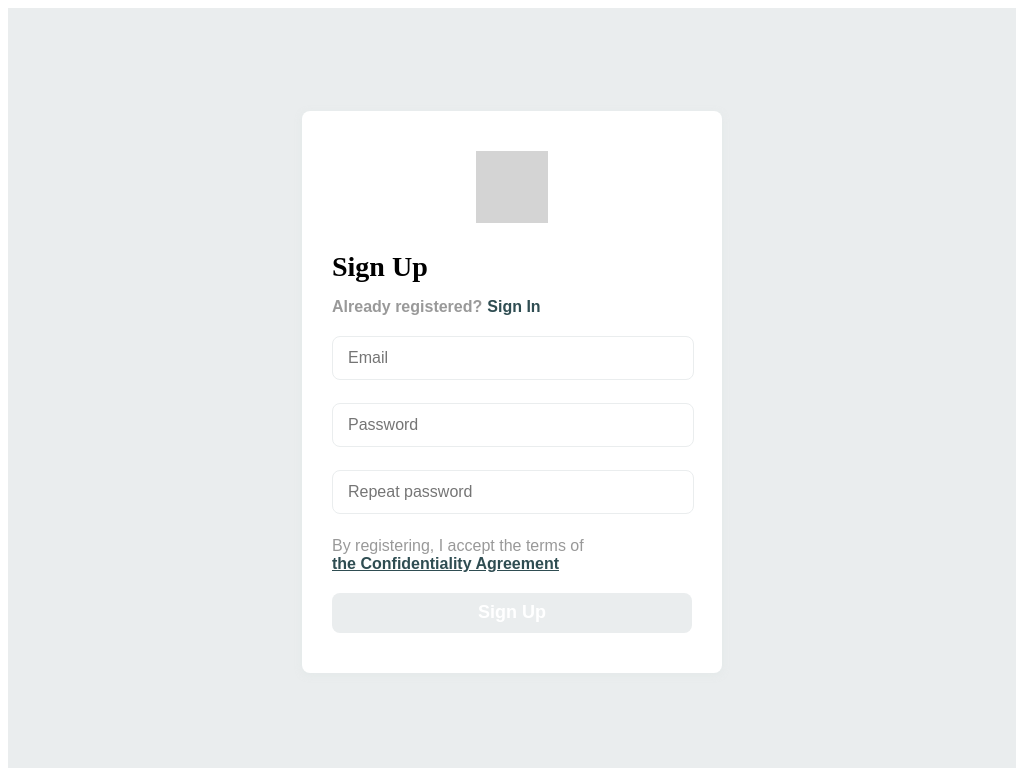
Test: Login.cy.tsx › Submit button should be enabled when valid email, password & password repeat is entered
In the field with id "email": (513,358) [332,336,694,380], type "antti.isosaari@mail.fi"
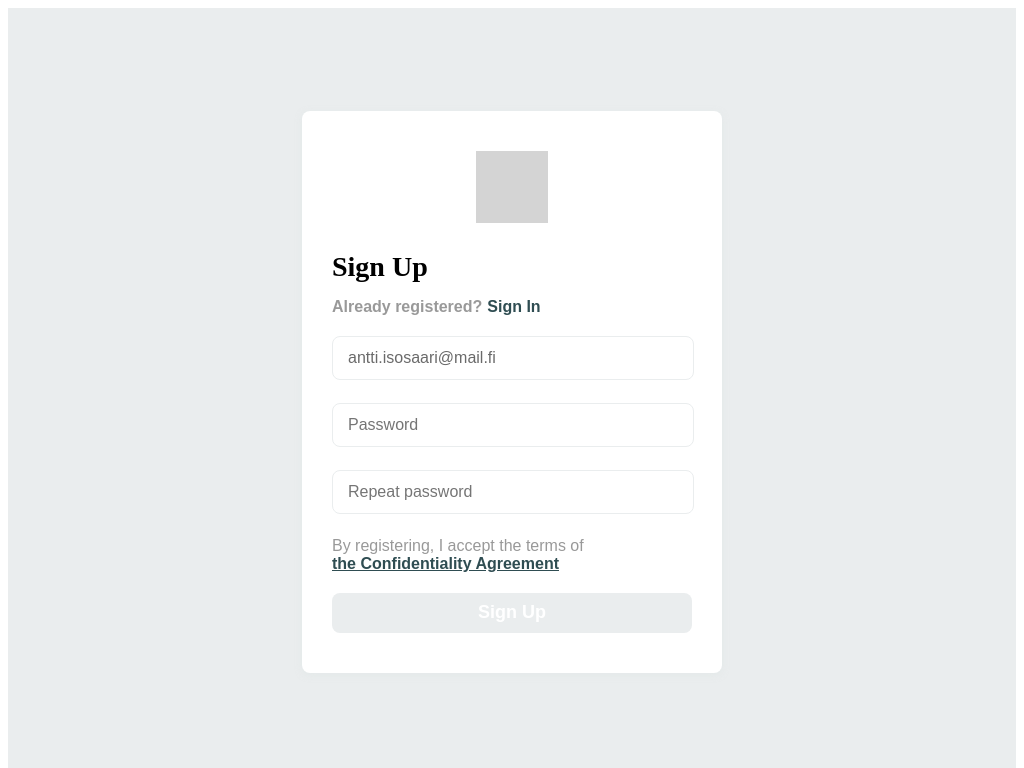
In the password field with placeholder "Password": (513,425) [332,403,694,447], type "Abc12345"
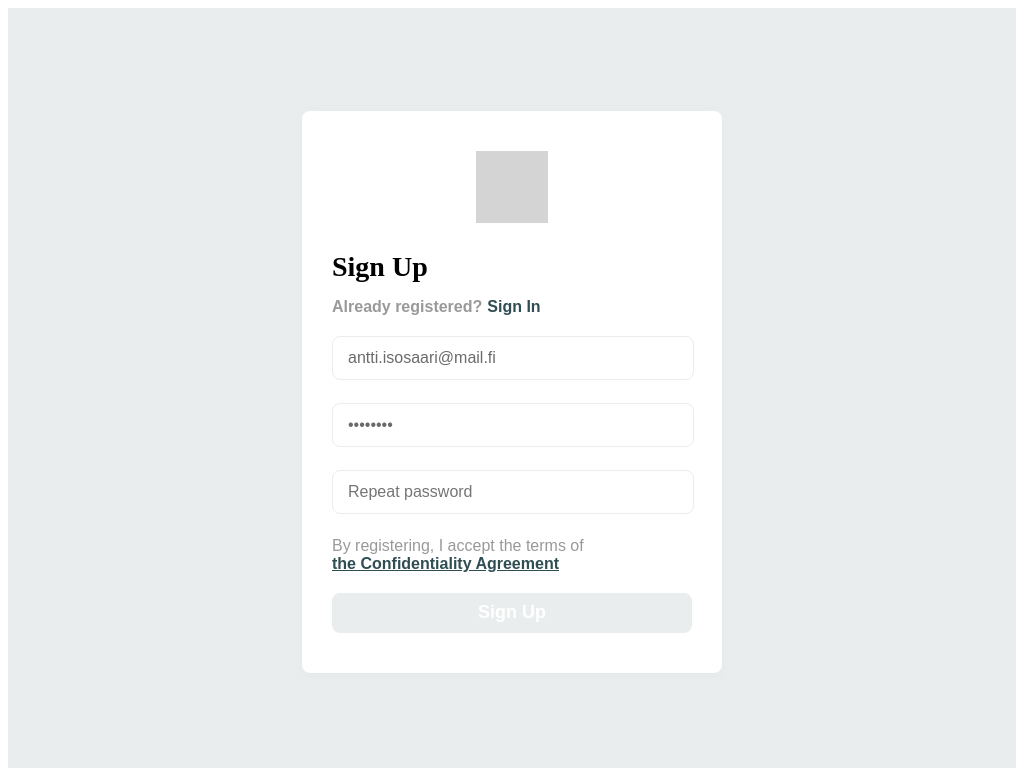
In the password field with placeholder "Repeat password": (513,492) [332,470,694,514], type "Abc12345"
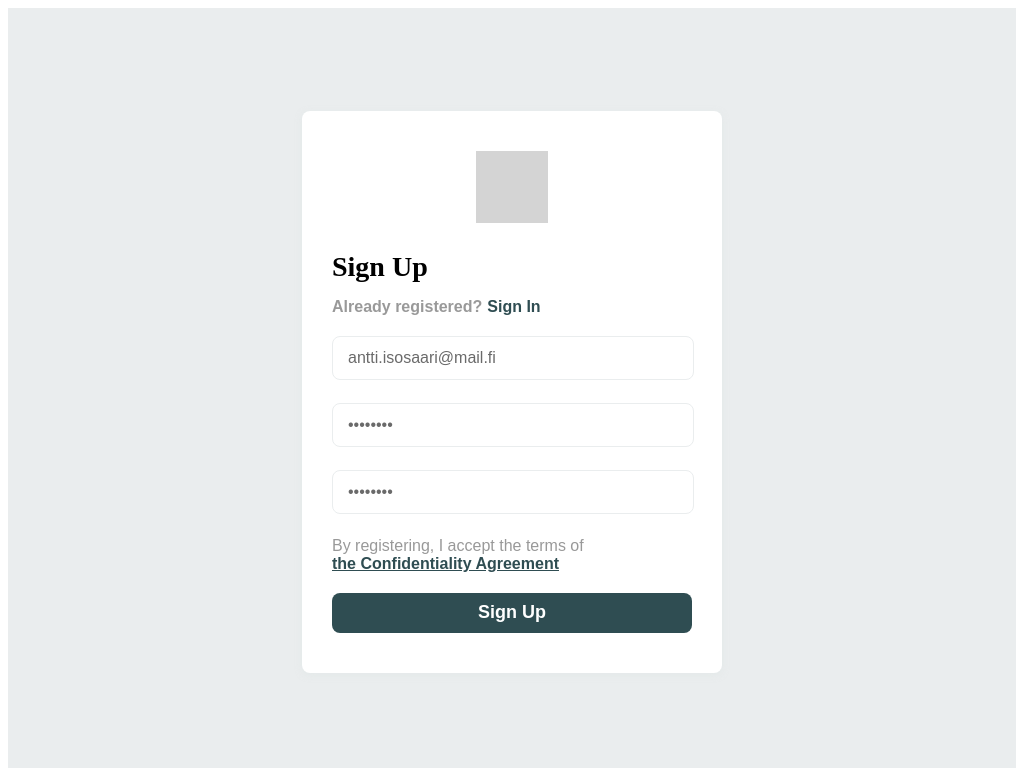
Expected: the button with id "submit" is enabled, [332,593,692,633]
